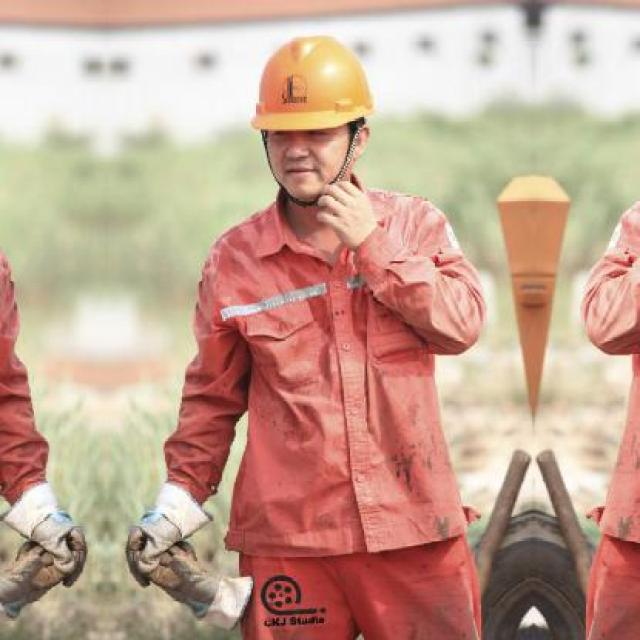helmet: (231, 26, 390, 217)
